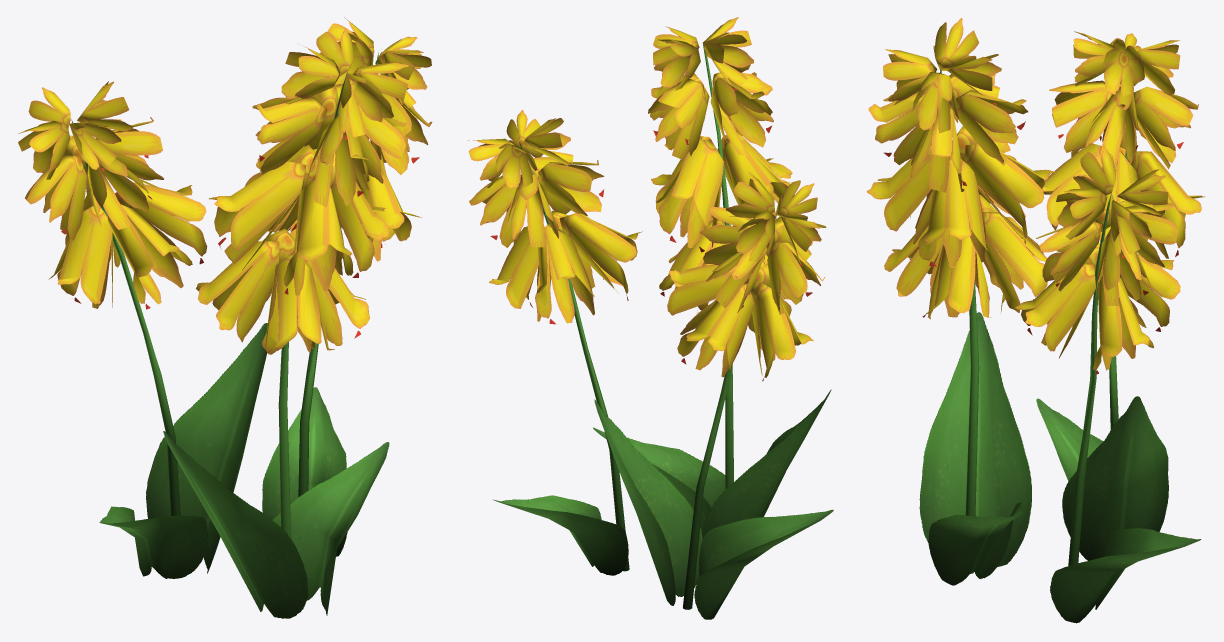
Rendered from Flower_4_Group.gltf.
3 views of the same model, side by side, from view 1: azimuth 30°, elevation 25°; view 2: azimuth 150°, elevation 25°; view 3: azimuth 270°, elevation 25° (orthographic). The views are drawn at different scales.
Visible parts, largest first — view 1: Flower_4_Group; view 2: Flower_4_Group; view 3: Flower_4_Group.
Boxes of the visible parts, x1,y1,x2,y2 form: Flower_4_Group: (18,17,432,618); Flower_4_Group: (468,17,833,619); Flower_4_Group: (867,18,1205,623).
Bounding box in the file's own units: 1.78 × 2.49 × 1.37.
2 materials, 2 textured.
